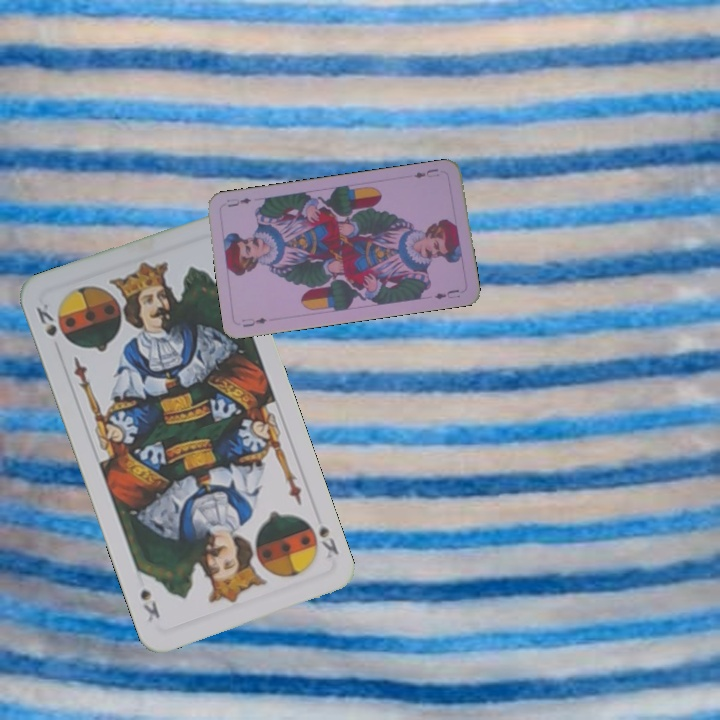EU: (406, 164, 442, 181), (238, 313, 269, 330)
SK: (301, 515, 341, 561), (32, 299, 60, 339)
